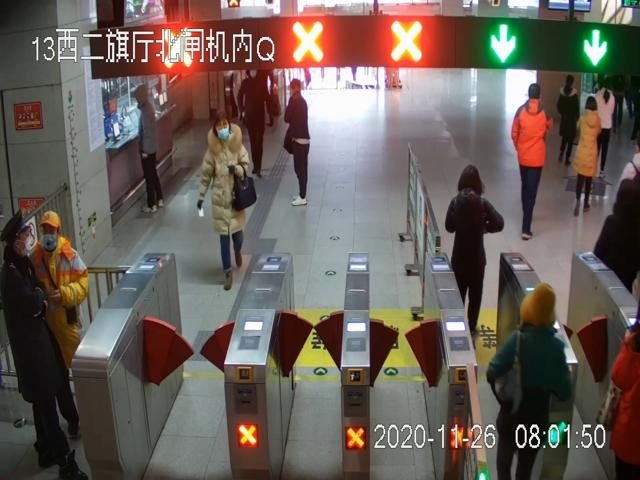person: (1, 213, 89, 480), (486, 278, 566, 480), (28, 212, 87, 439), (196, 112, 256, 291), (446, 164, 505, 343), (510, 82, 555, 241), (127, 79, 166, 213), (281, 77, 314, 206), (571, 91, 602, 215)
